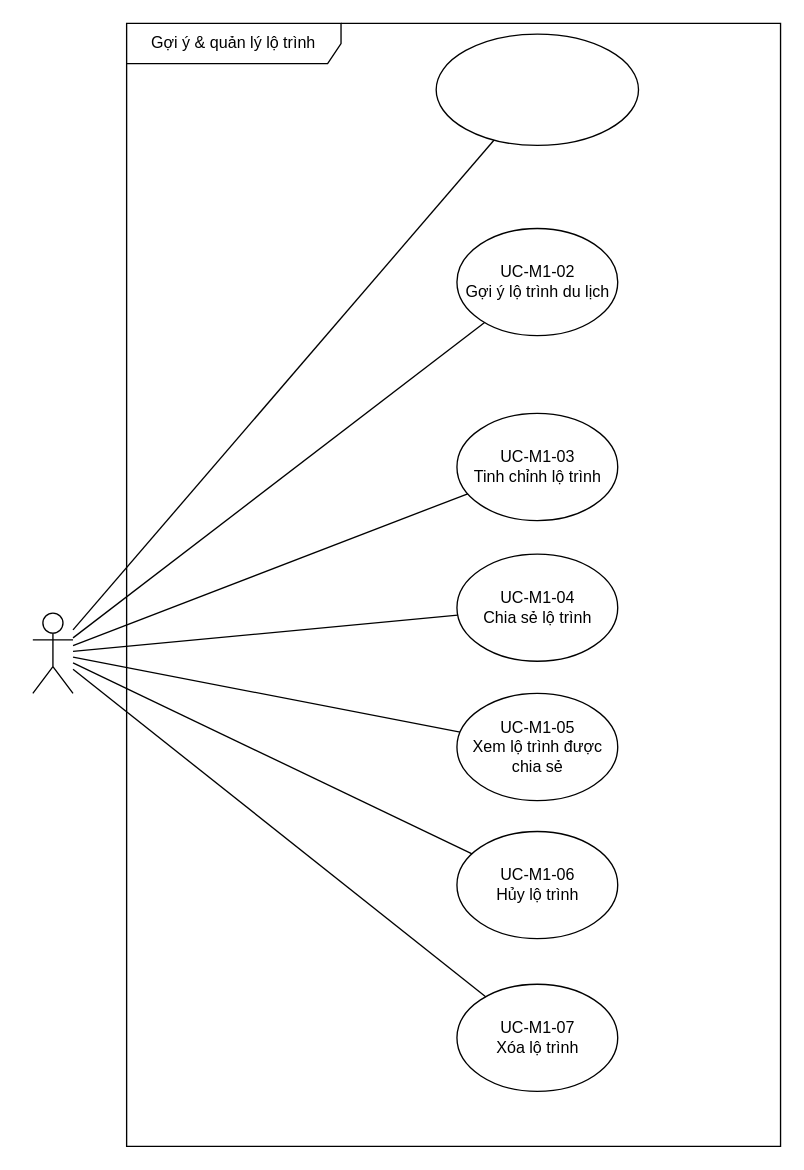
Some shapes in this 804 by 1170 pixel diagram are drawn without their labels. Each missing label, with the centre of its shape:
Traveler: the point at 52,652
UC-M1-01 Tạo lộ trình: the point at 537,89
